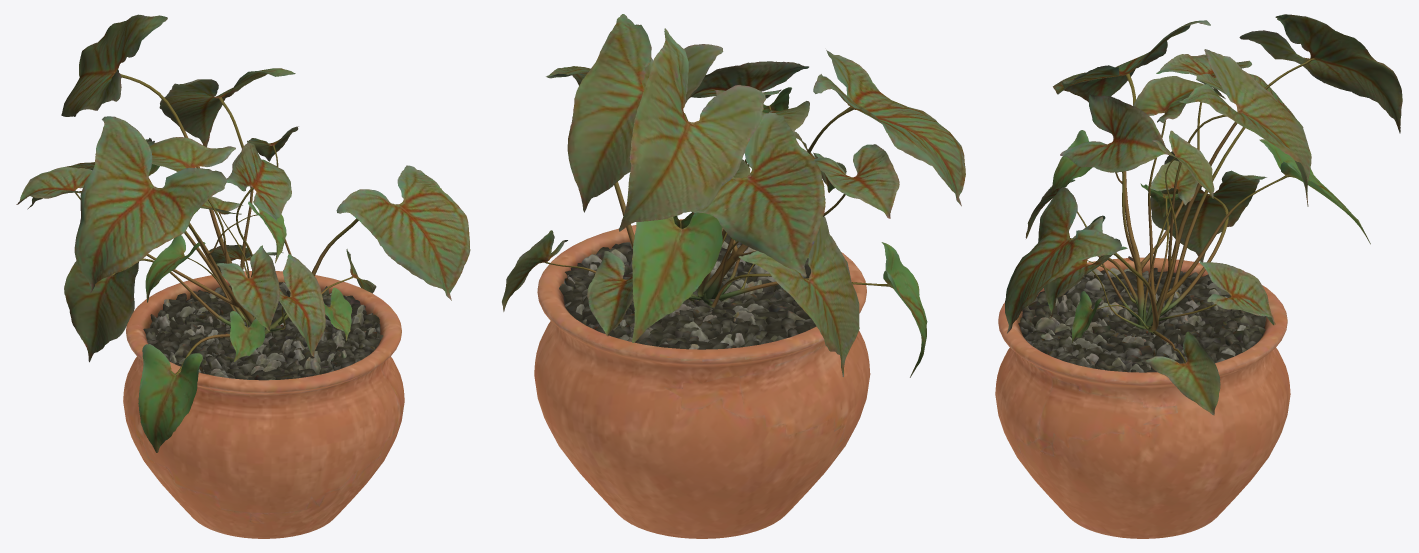
File: plant-potted.glb
3 views of the same model, side by side, from view 1: azimuth 30°, elevation 25°; view 2: azimuth 150°, elevation 25°; view 3: azimuth 270°, elevation 25° (orthographic). The views are drawn at different scales.
Parts seen in each view (by area): view 1: leaves, pot, dirt; view 2: leaves, pot, dirt; view 3: leaves, pot, dirt.
Part boxes in pixels (x1,y1,x2,y2): leaves: (16, 14, 470, 452); pot: (123, 271, 404, 538); dirt: (143, 282, 383, 380); leaves: (502, 14, 965, 377); pot: (534, 219, 870, 538); dirt: (559, 234, 816, 349); leaves: (1005, 14, 1402, 415); pot: (995, 257, 1290, 538); dirt: (1018, 267, 1266, 372).
Bounding box in the file's own units: 0.7012 × 0.8412 × 0.6574.
3 materials, 3 textured.
